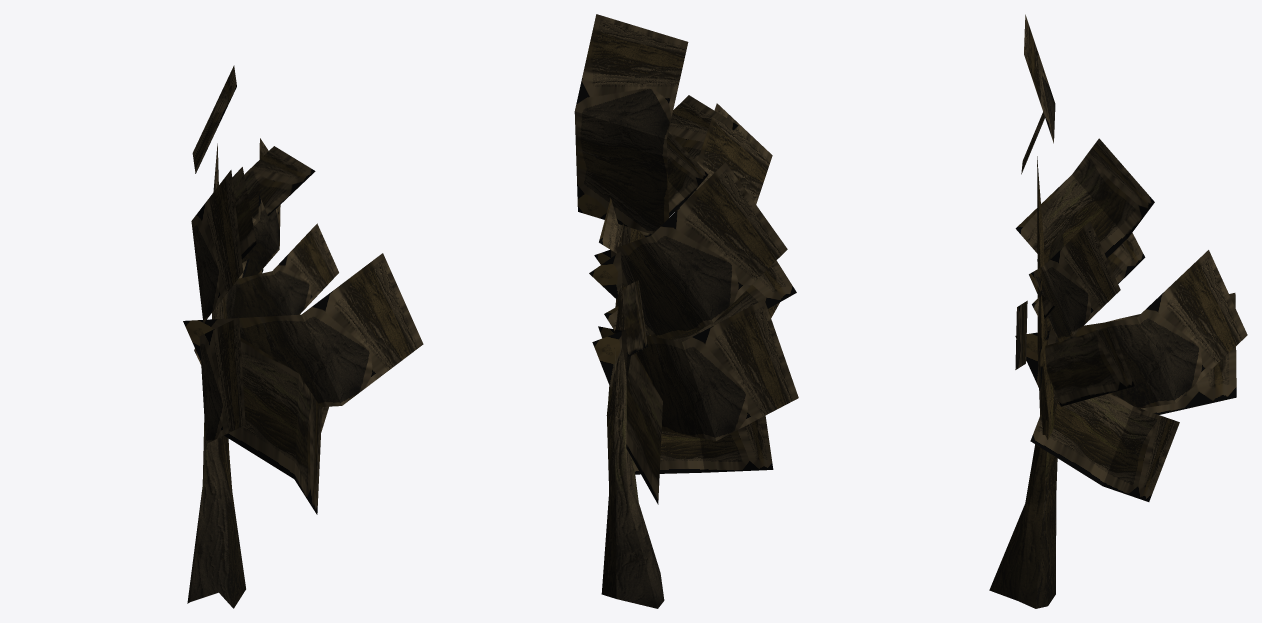
The model's file is snow_snowy_tree.glb.
3 views of the same model, side by side, from view 1: azimuth 30°, elevation 25°; view 2: azimuth 150°, elevation 25°; view 3: azimuth 270°, elevation 25° (orthographic). The views are drawn at different scales.
Visible parts, largest first — view 1: _MeshInstance3D_17; view 2: _MeshInstance3D_17; view 3: _MeshInstance3D_17.
Part boxes in pixels (<box>): _MeshInstance3D_17: <box>183,65,423,608</box>; _MeshInstance3D_17: <box>574,14,798,608</box>; _MeshInstance3D_17: <box>989,14,1247,608</box>.
Size of the model in its own units: 4.46 by 7.43 by 5.
1 material, 1 textured.
